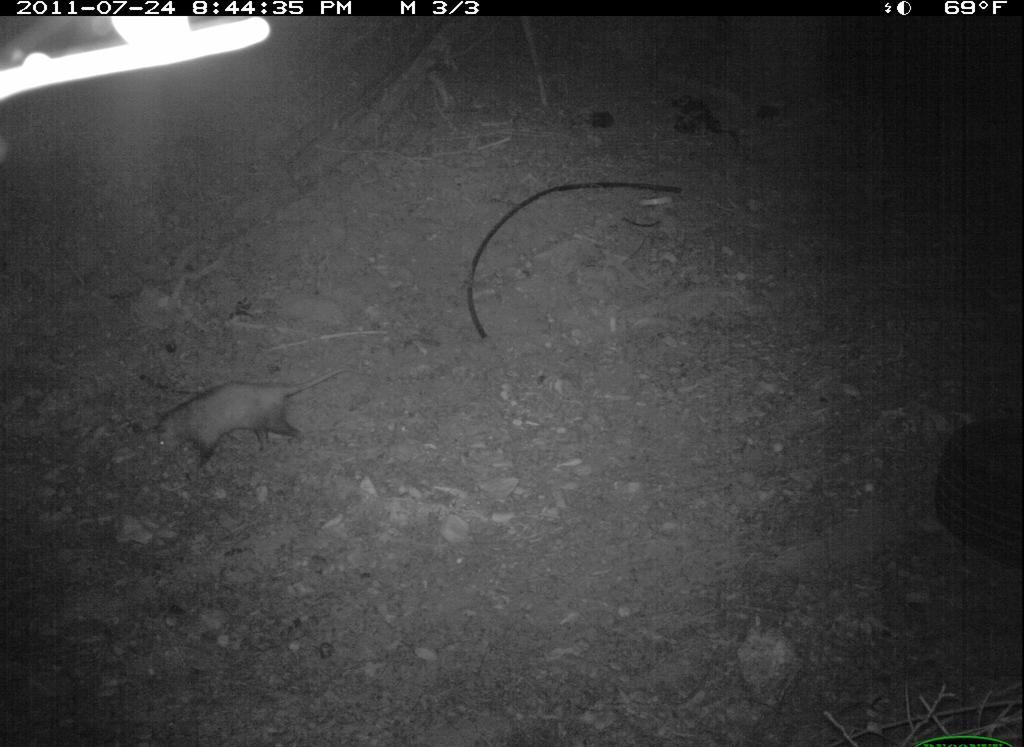opossum: (149, 364, 355, 477)
